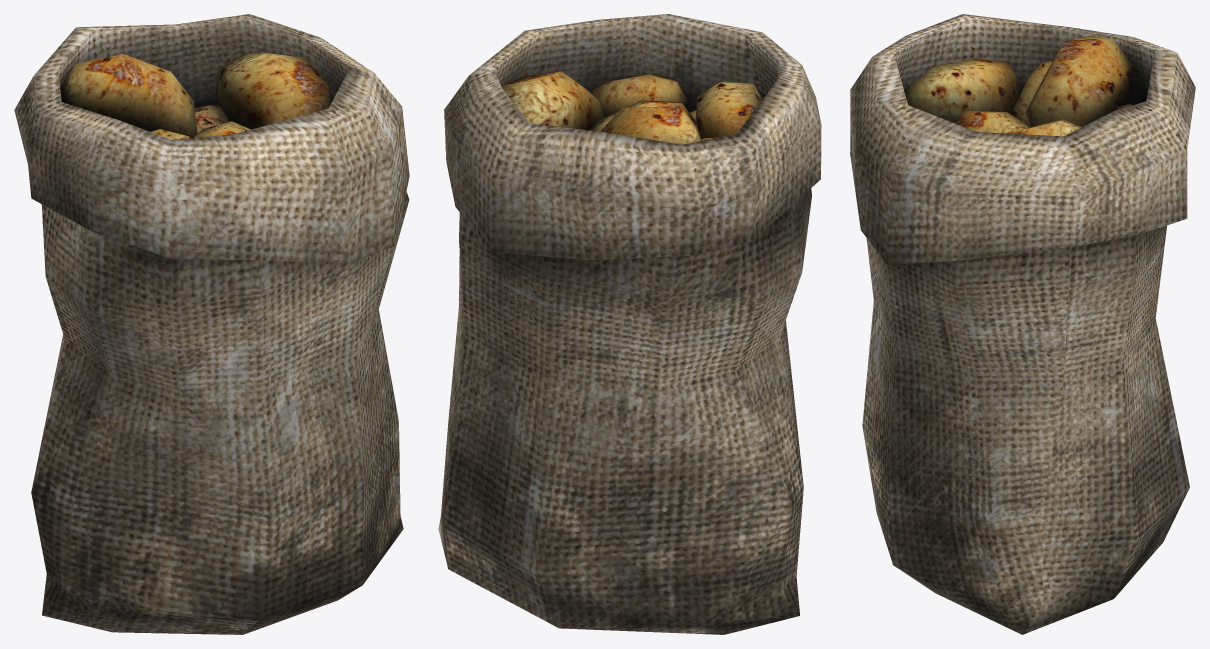
Rendered from potato_sack_open.dae.
3 renders of one model, left to right at view 1: azimuth 30°, elevation 25°; view 2: azimuth 150°, elevation 25°; view 3: azimuth 270°, elevation 25°, orthographic. The views are drawn at different scales.
Visible parts, largest first — view 1: polySurface14; view 2: polySurface14; view 3: polySurface14.
Part boxes in pixels (left/top/right/bottom): polySurface14: left=14, top=14, right=409, bottom=634; polySurface14: left=438, top=14, right=821, bottom=634; polySurface14: left=850, top=14, right=1195, bottom=634.
Size of the model in its own units: 0.4379 by 0.5993 by 0.3849.
